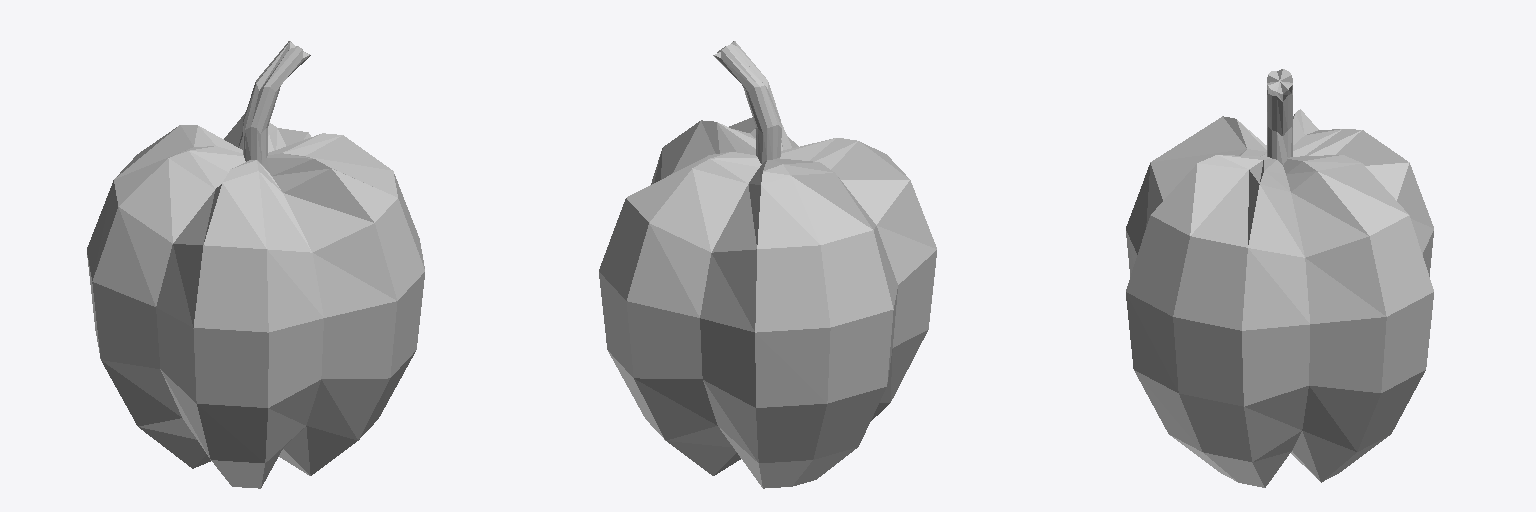
File: Pepper.obj
The picture shows the model from 3 angles: view 1: azimuth 30°, elevation 25°; view 2: azimuth 150°, elevation 25°; view 3: azimuth 270°, elevation 25°; orthographic projection.
Parts seen in each view (by area): view 1: Sphere001; view 2: Sphere001; view 3: Sphere001.
Boxes of the visible parts, x1,y1,x2,y2 form: Sphere001: [87, 41, 424, 488]; Sphere001: [599, 41, 936, 488]; Sphere001: [1126, 69, 1433, 487].
Bounding box in the file's own units: 0.1887 × 0.2552 × 0.1744.